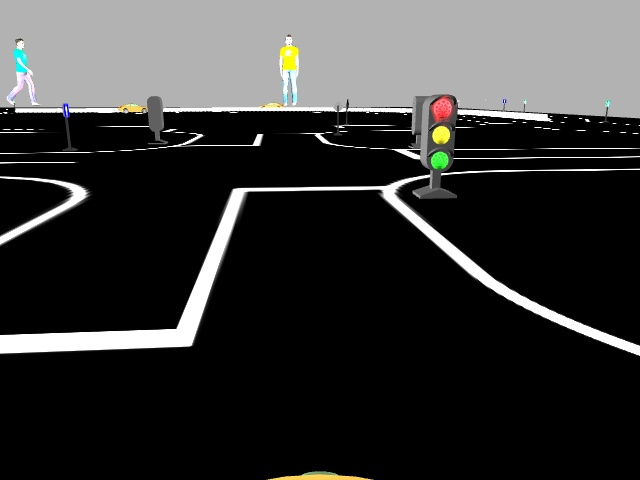TrafficLight: (419, 91, 457, 170)
